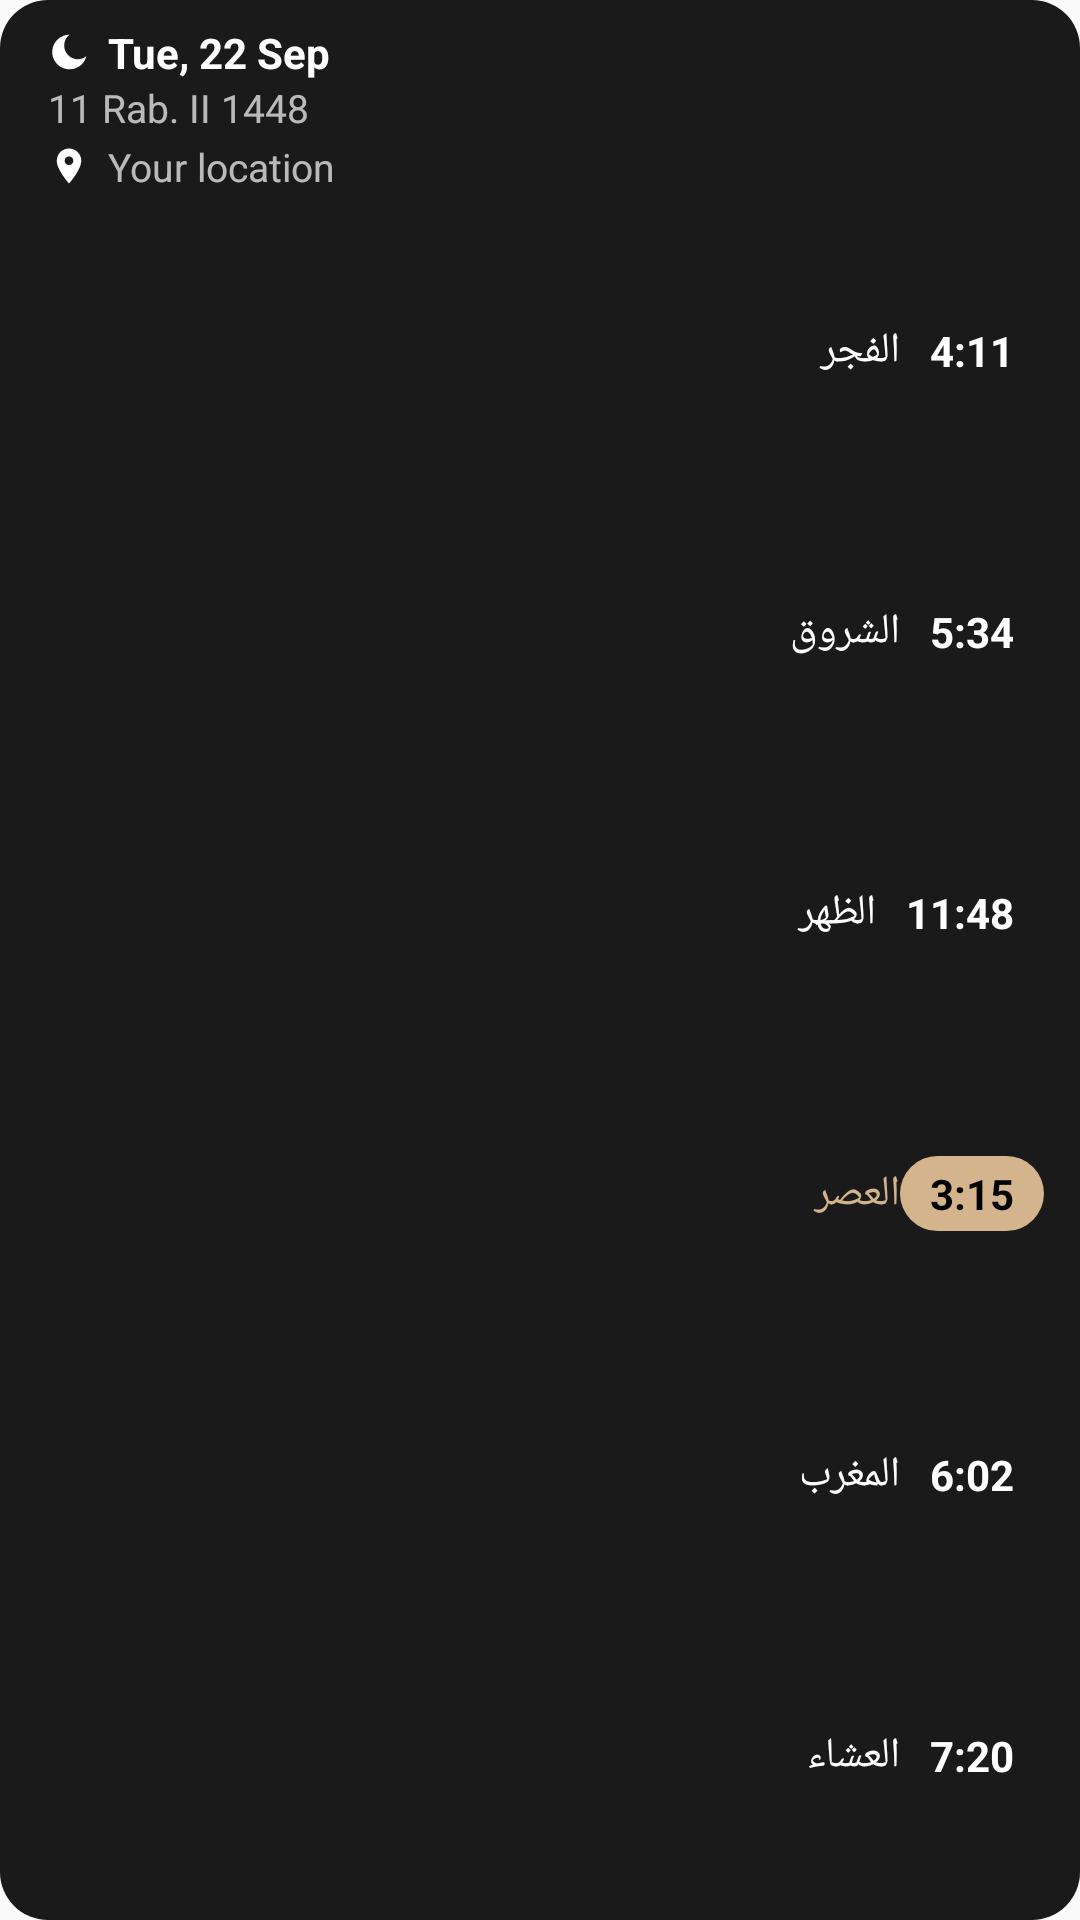

Icon click points for this 1080 x 1920 phone screenshot, format (x,y):
widget moon: (69,52)
widget pin: (69,165)
